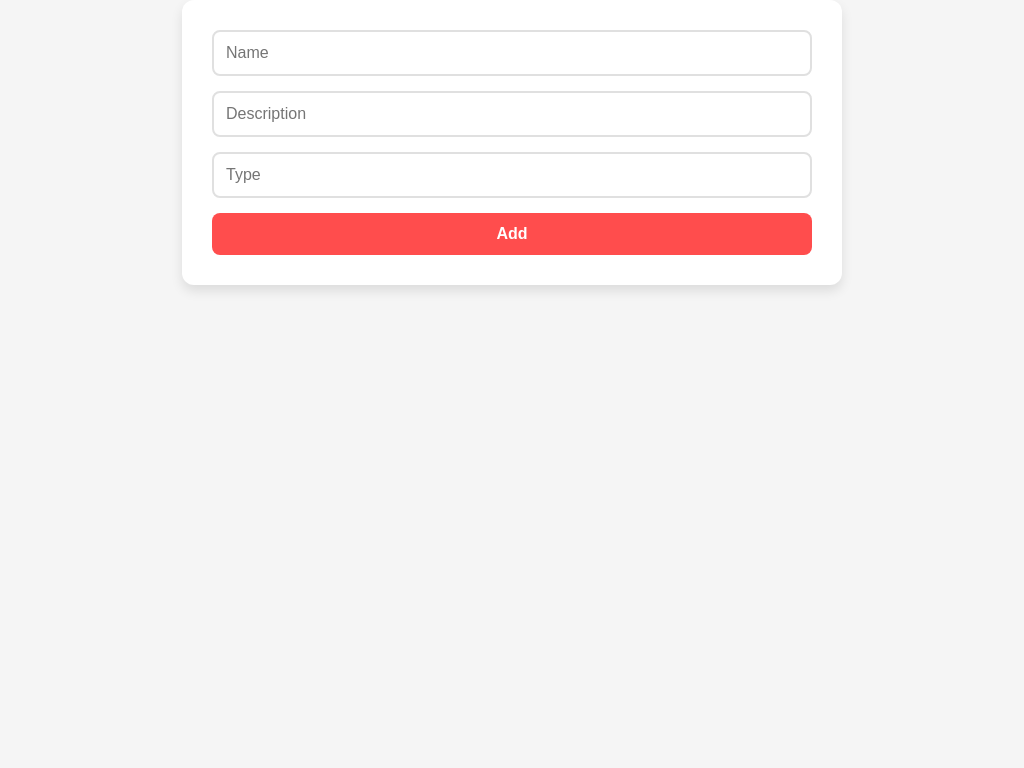
Scenario: ObjectForm Component › should open a modal and show feedback message after submitting
In the field with placeholder "Name": (512,53) [212,30,812,76], type "Test Object"
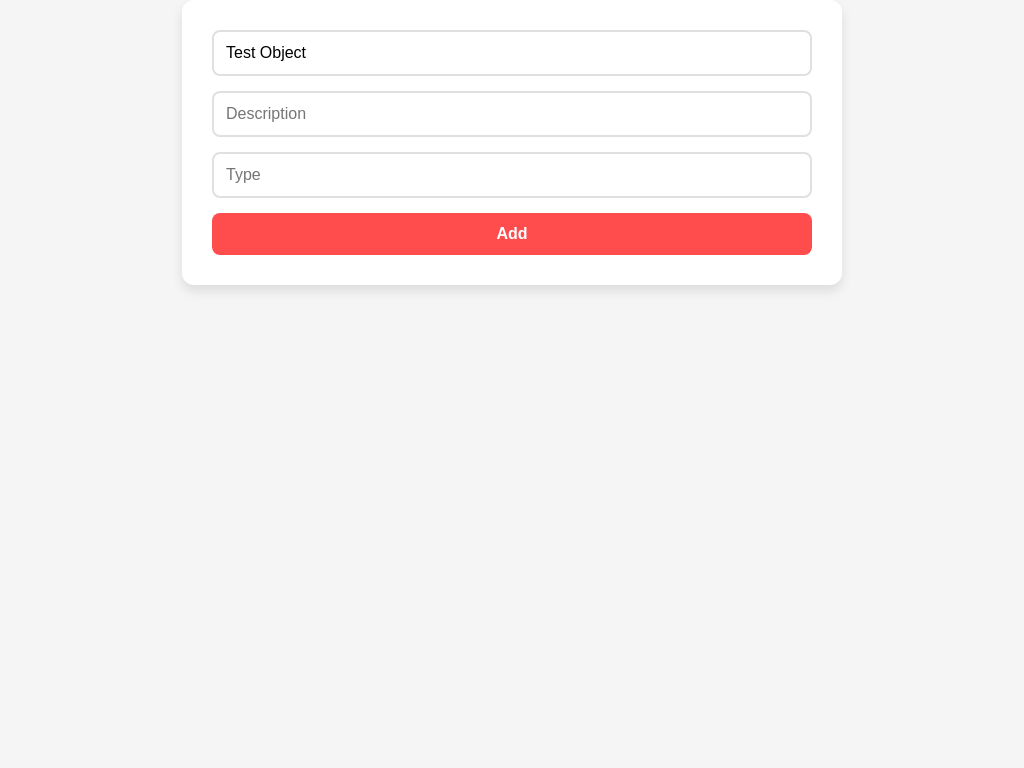
In the field with placeholder "Description": (512,114) [212,91,812,137], type "This is a test."
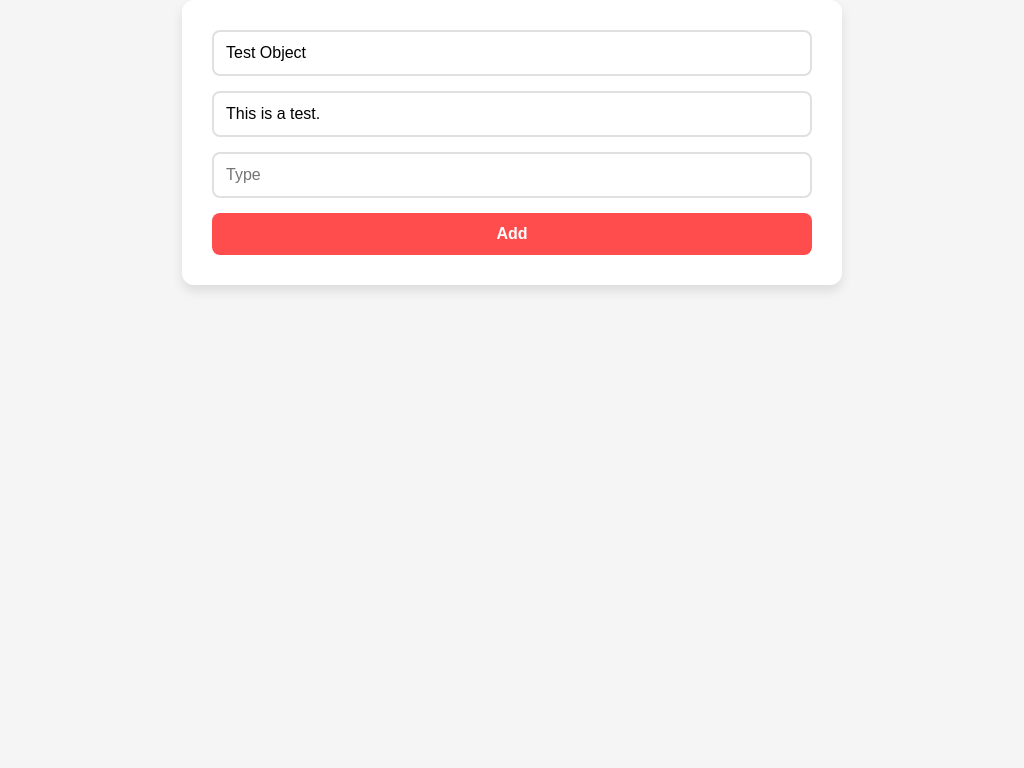
In the field with placeholder "Type": (512,175) [212,152,812,198], type "Type A"
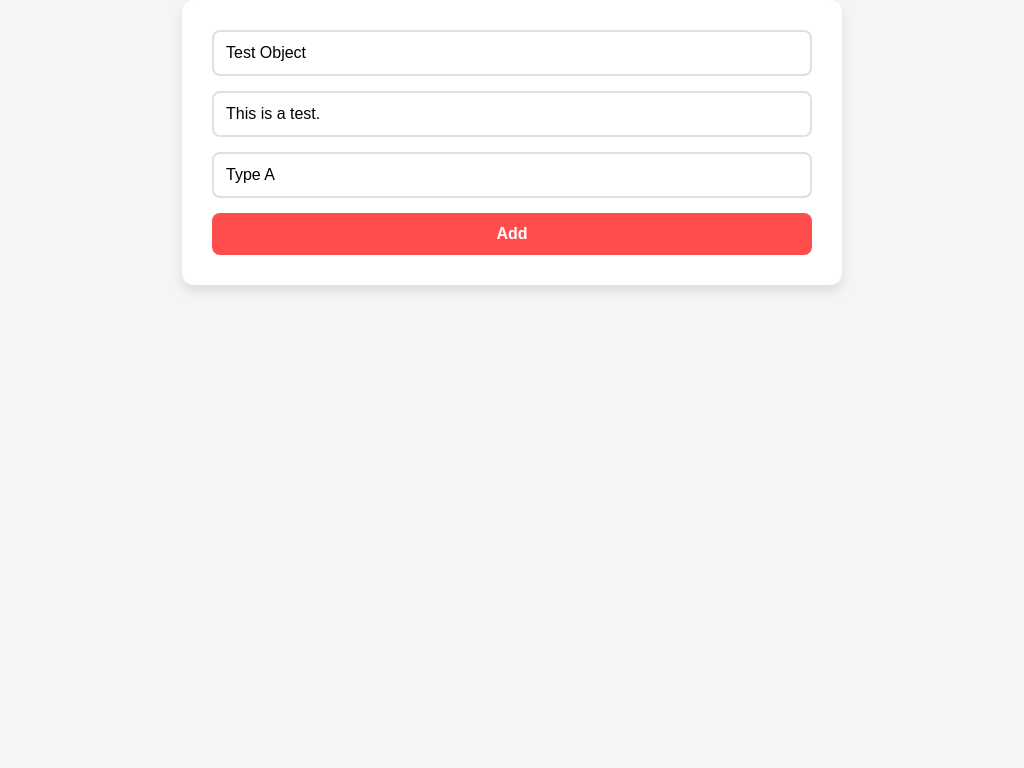
Click the button "Add": (512,234) [212,213,812,255]
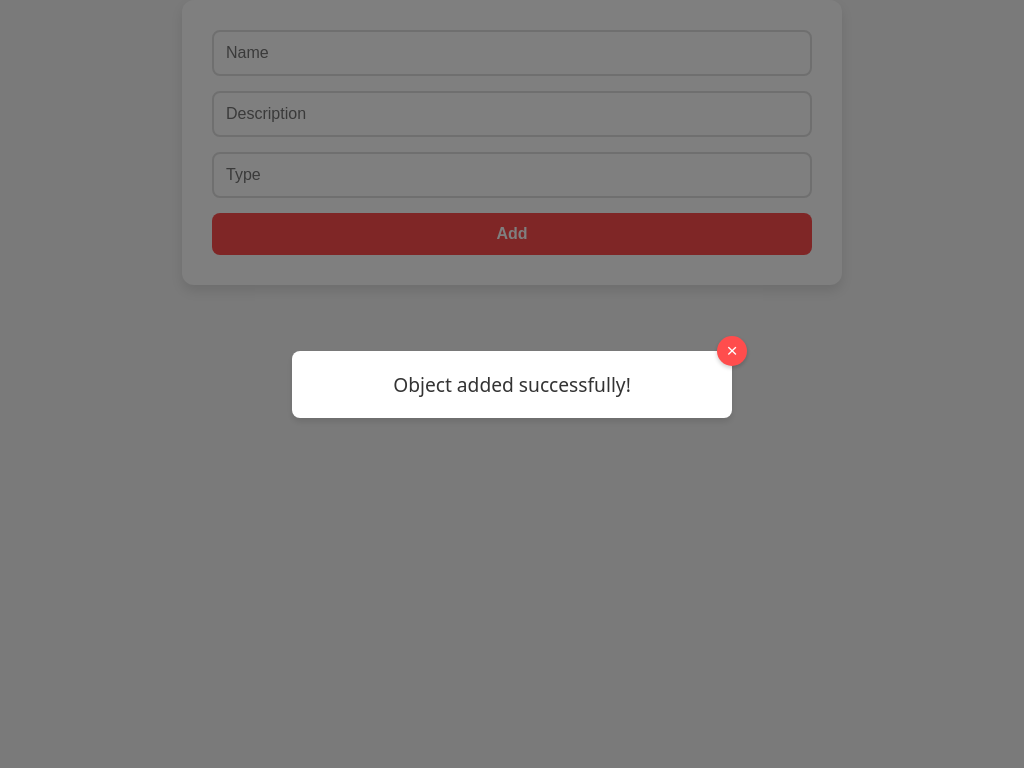
Expected: the text "Object added successfully!" is shown, [393,370,631,398]
